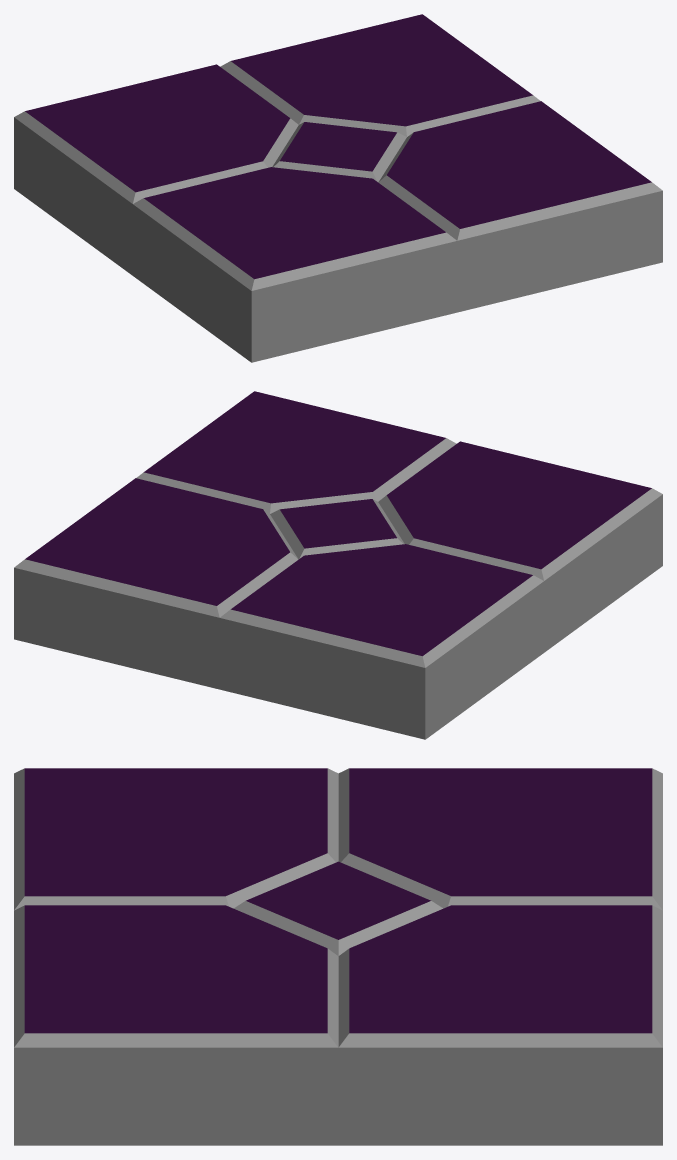
File: floor.fbx
The picture shows the model from 3 angles, top to bottom: view 1: azimuth 30°, elevation 25°; view 2: azimuth 150°, elevation 25°; view 3: azimuth 270°, elevation 25°; orthographic projection. The views are drawn at different scales.
Visible parts, largest first — view 1: floor; view 2: floor; view 3: floor.
Boxes of the visible parts, x1,y1,x2,y2 form: floor: (14,14,662,362); floor: (14,391,662,739); floor: (14,768,662,1145).
Size of the model in its own units: 300 by 55 by 300.
